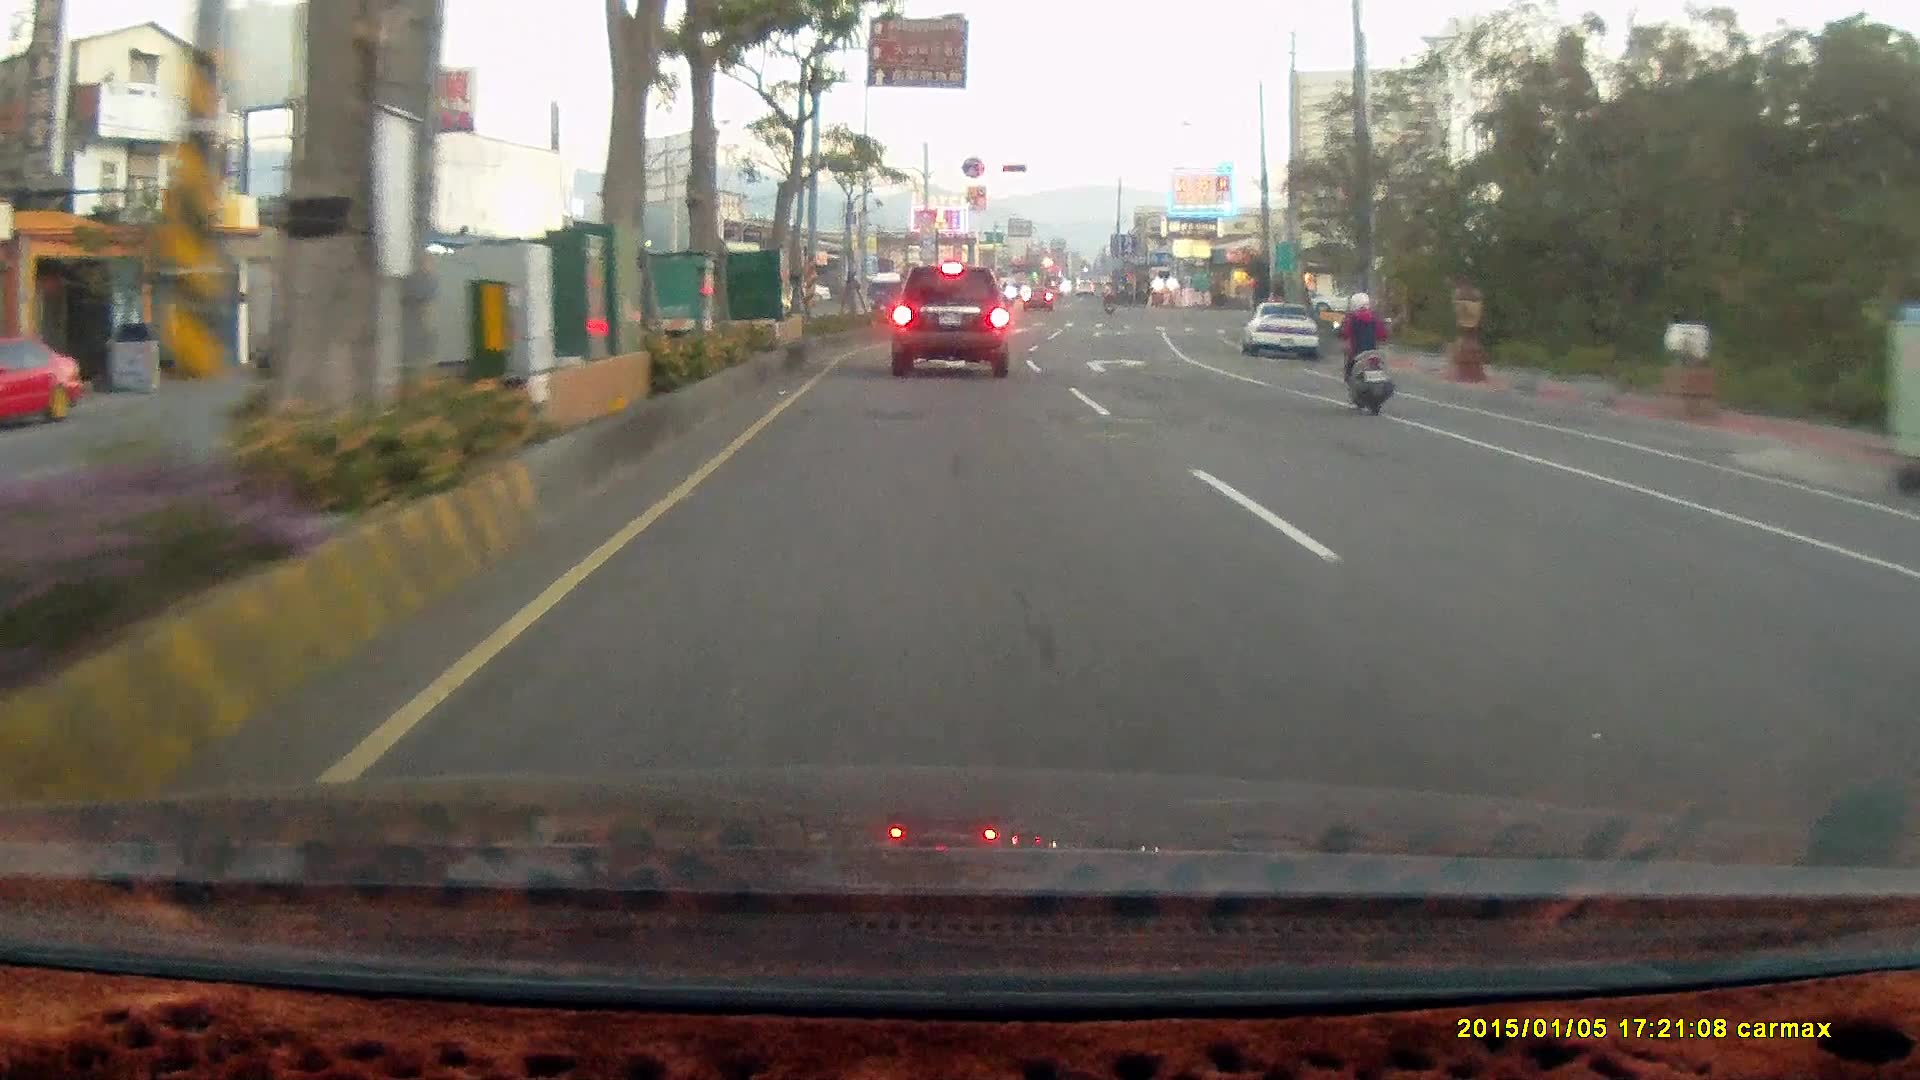rider: (1330, 293, 1394, 420)
vehicle: (888, 264, 1007, 378), (1, 335, 85, 434), (1896, 493, 1920, 836), (1883, 528, 1920, 690), (1238, 300, 1319, 362), (1246, 306, 1321, 361), (1301, 278, 1376, 314)
